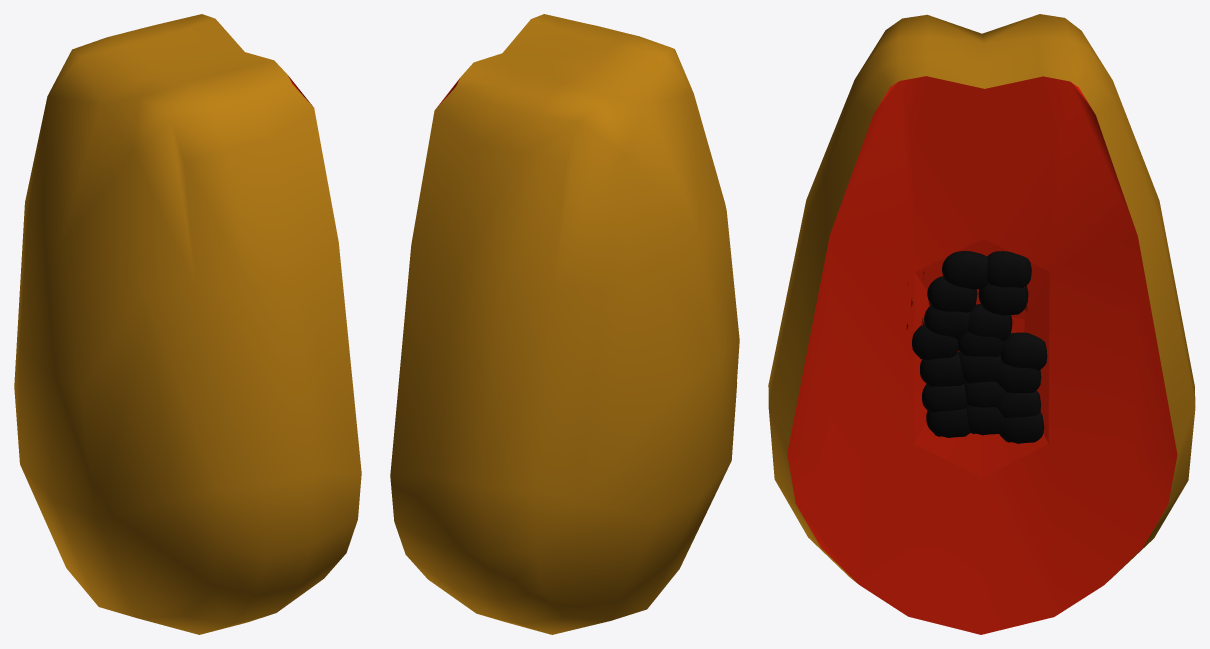
File: mamao acertado.FBX
The picture shows the model from 3 angles, left to right: view 1: azimuth 30°, elevation 25°; view 2: azimuth 150°, elevation 25°; view 3: azimuth 270°, elevation 25°; orthographic projection.
Parts seen in each view (by area): view 1: Box001; view 2: Box001; view 3: laranja, Box001, Sphere005.
Boxes of the visible parts, bbox=[...] form: Box001: bbox=[14, 14, 361, 634]; Box001: bbox=[390, 14, 739, 634]; laranja: bbox=[787, 76, 1177, 634]; Box001: bbox=[768, 14, 1195, 583]; Sphere005: bbox=[912, 251, 1047, 443].
Size of the model in its own units: 33.21 by 79.12 by 53.98.
